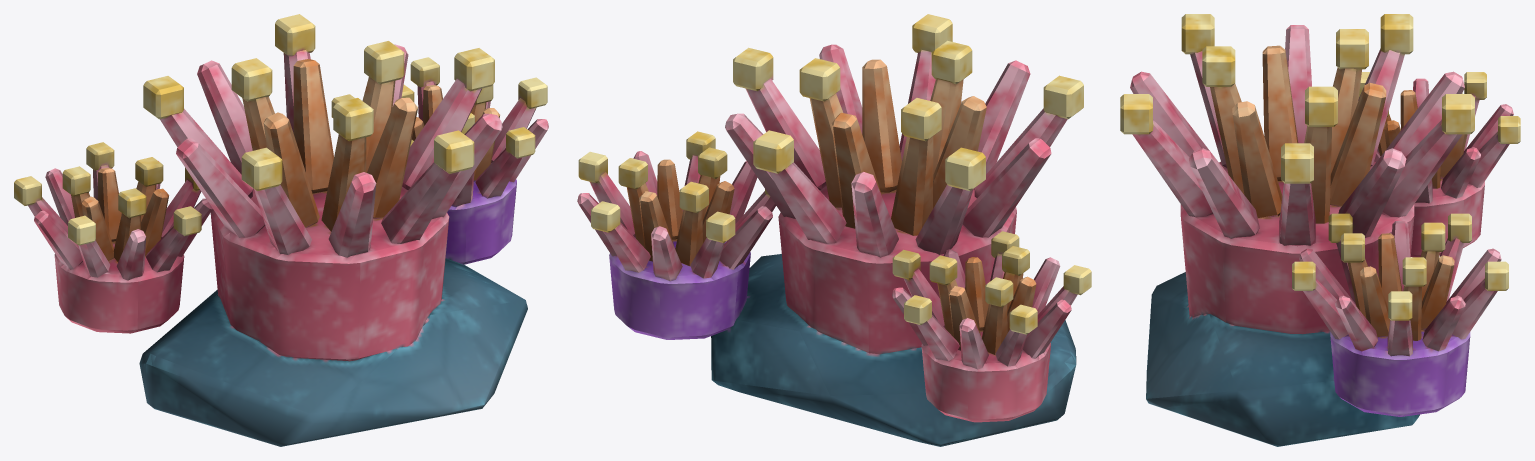
The model's file is Abysses_Anemone.fbx.
The picture shows the model from 3 angles, left to right: view 1: azimuth 30°, elevation 25°; view 2: azimuth 150°, elevation 25°; view 3: azimuth 270°, elevation 25°; orthographic projection.
Visible parts, largest first — view 1: Abysses_Anemone; view 2: Abysses_Anemone; view 3: Abysses_Anemone.
Boxes of the visible parts, bbox=[...] form: Abysses_Anemone: bbox=[14, 14, 548, 446]; Abysses_Anemone: bbox=[577, 14, 1091, 446]; Abysses_Anemone: bbox=[1120, 14, 1520, 446].
Size of the model in its own units: 565 by 328 by 390.
Materials: 1 (1 with a texture image).
